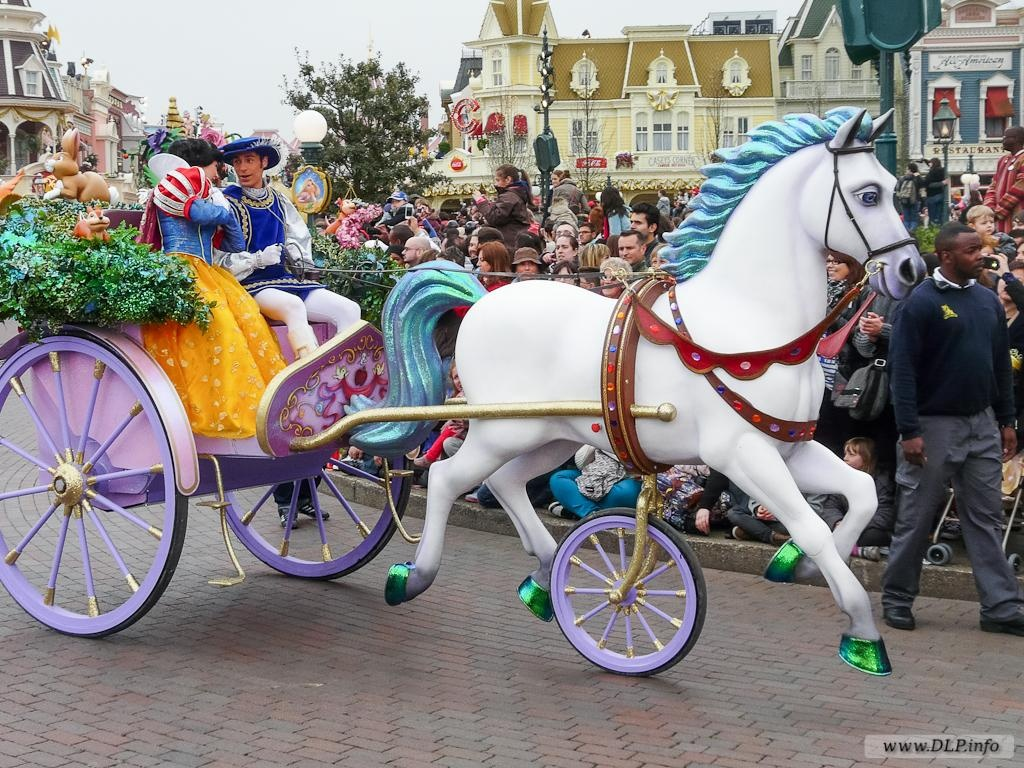human_face: (952, 236, 984, 276), (232, 151, 262, 185), (1000, 266, 1022, 300), (825, 254, 849, 280), (194, 156, 218, 182), (601, 267, 623, 295), (618, 235, 640, 261), (651, 252, 673, 276), (842, 444, 862, 470), (630, 212, 650, 238), (516, 258, 538, 278), (466, 237, 486, 259), (555, 268, 573, 292), (474, 252, 492, 276), (400, 242, 420, 262), (995, 428, 1011, 452), (578, 274, 594, 298), (974, 213, 994, 232), (556, 239, 572, 261), (556, 226, 572, 248), (1002, 129, 1018, 149), (1014, 243, 1024, 272), (1011, 217, 1023, 241), (494, 173, 510, 191), (388, 234, 400, 252), (391, 196, 405, 210), (579, 227, 591, 243), (531, 194, 541, 204), (550, 174, 558, 186), (454, 236, 460, 244)
